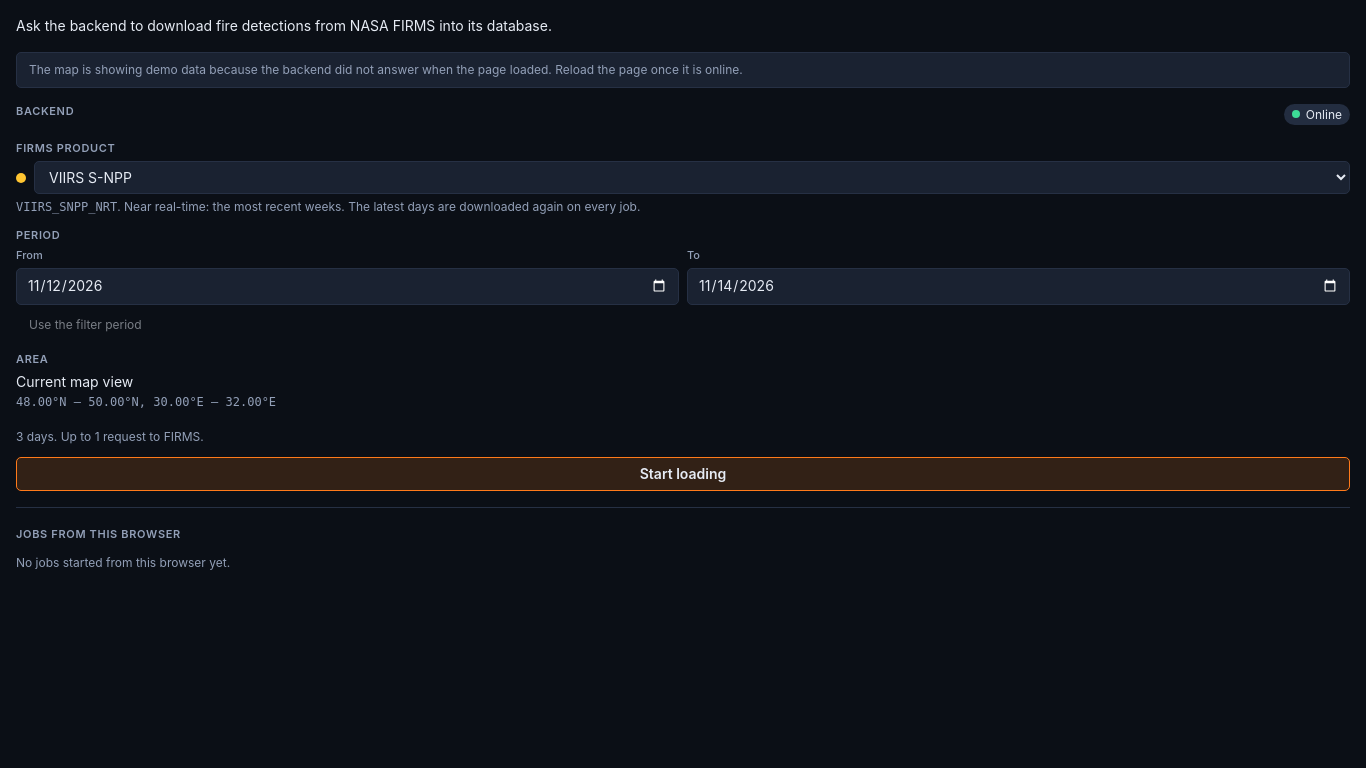
Test case: IngestionPanel › shows what the backend rejected
The width and height of the screenshot is (1366, 768).
Expected: the text "Online" is shown, [1284,104,1350,125]
What coordinates should you click on to do the following:
click the button "Start loading"
I would click on:
 (683, 474)
Its box is [16,457,1350,491].
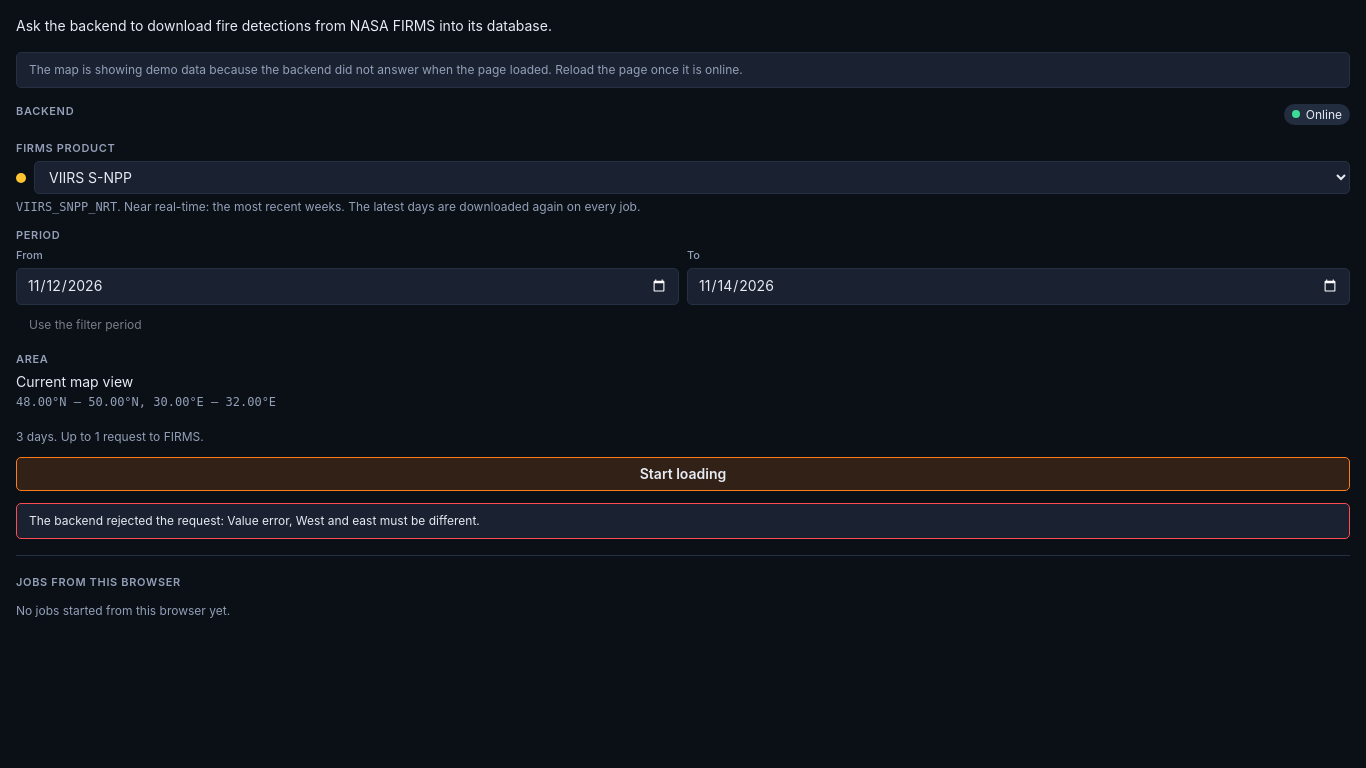
Expected: the 2nd message shows "West and east must be different.", [29,513,480,528]
